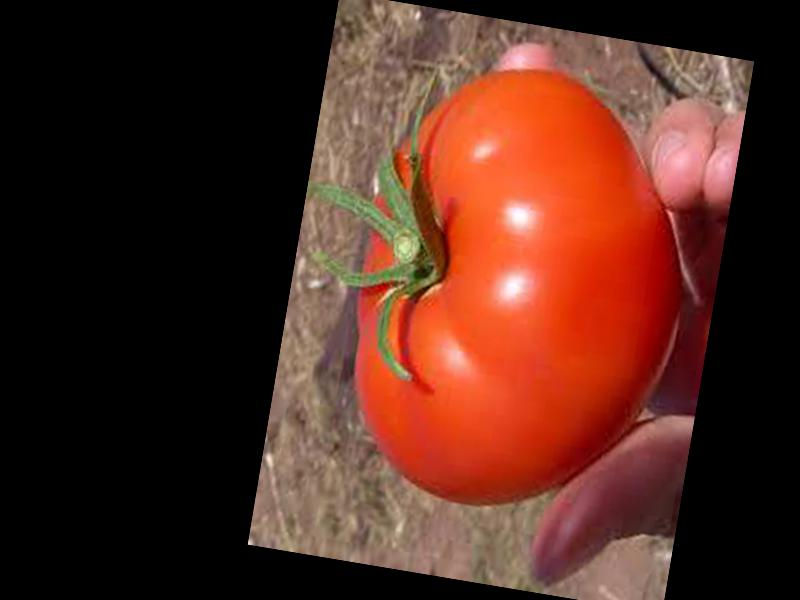Tomato: (327, 47, 711, 533)
